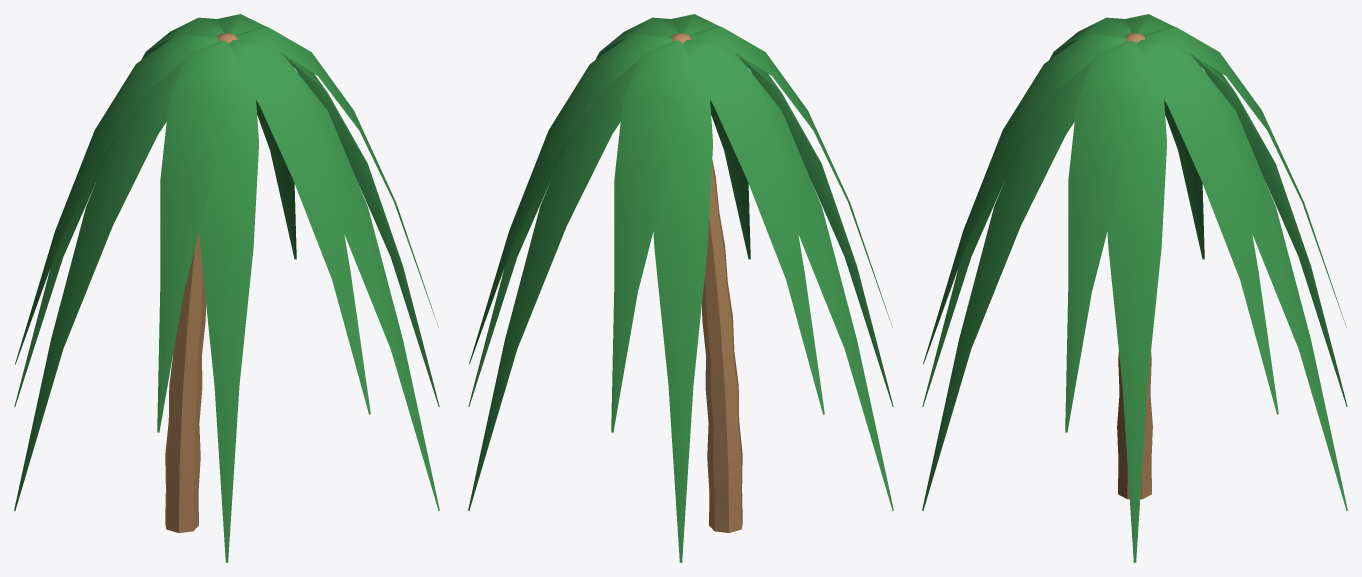
File: palm_royal.glb
3 views of the same model, side by side, from view 1: azimuth 30°, elevation 25°; view 2: azimuth 150°, elevation 25°; view 3: azimuth 270°, elevation 25° (orthographic).
Parts seen in each view (by area): view 1: palm_royal; view 2: palm_royal; view 3: palm_royal.
Part boxes in pixels (x1=…): palm_royal: x1=14, y1=14, x2=439, y2=562; palm_royal: x1=468, y1=14, x2=893, y2=562; palm_royal: x1=922, y1=14, x2=1347, y2=562.
Size of the model in its own units: 8.4 by 9.14 by 7.29.
